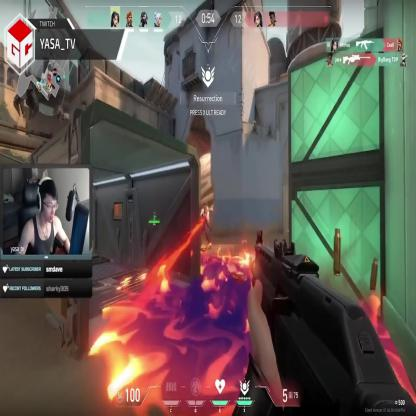enemy: (200, 205, 212, 247)
enemy_head: (203, 204, 206, 212)
